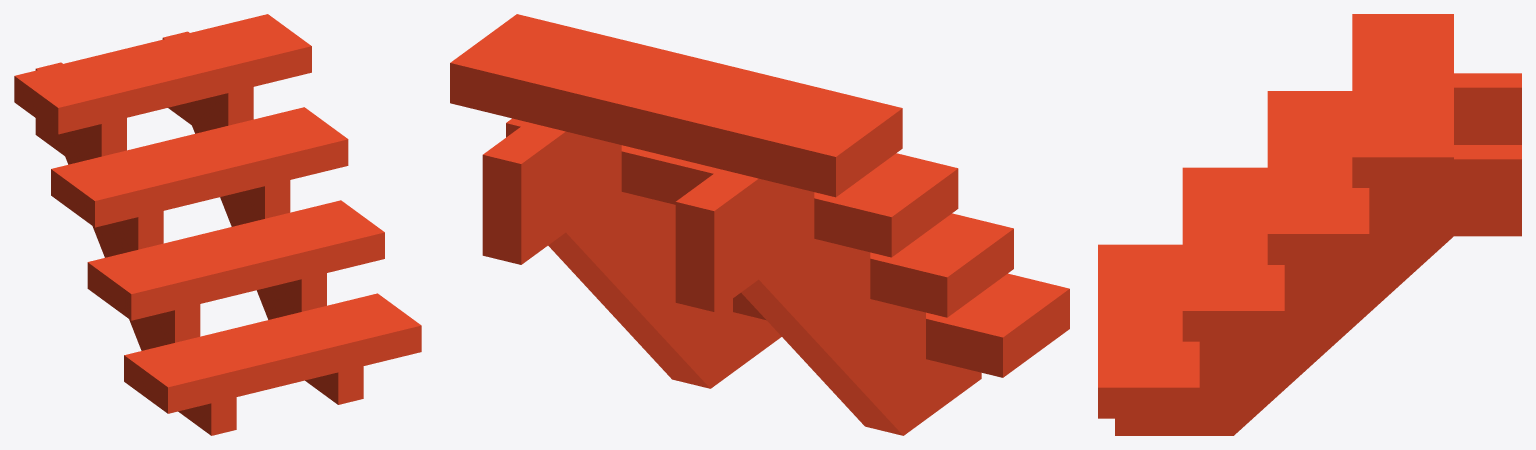
File: SM_Stairs_Wood_Regular_1m.fbx
The picture shows the model from 3 angles, left to right: view 1: azimuth 30°, elevation 25°; view 2: azimuth 150°, elevation 25°; view 3: azimuth 270°, elevation 25°; orthographic projection. The views are drawn at different scales.
Visible parts, largest first — view 1: stairs-wood-regular-1m; view 2: stairs-wood-regular-1m; view 3: stairs-wood-regular-1m.
Boxes of the visible parts, x1,y1,x2,y2 form: stairs-wood-regular-1m: (14,14,421,435); stairs-wood-regular-1m: (450,14,1069,435); stairs-wood-regular-1m: (1098,14,1521,435).
Bounding box in the file's own units: 1 × 1 × 1.25.
